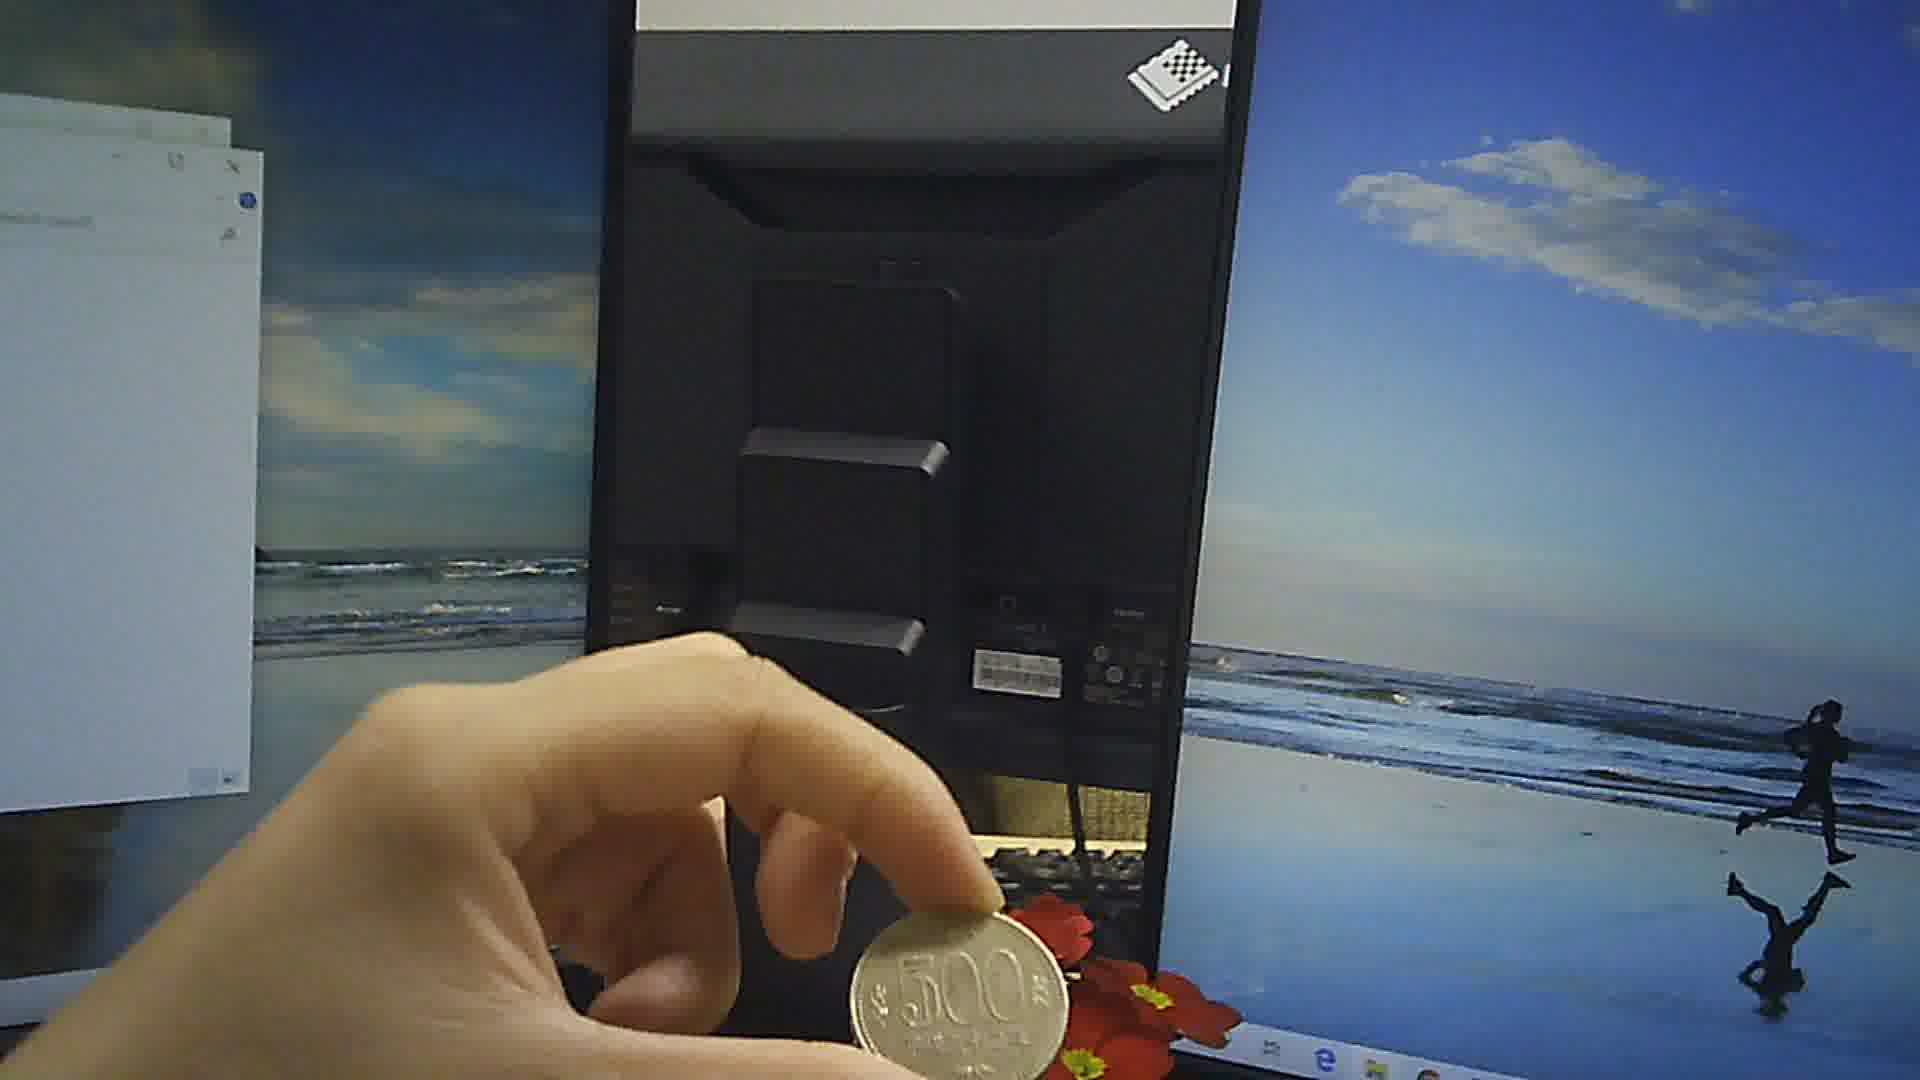500 Yen: (847, 901, 1071, 1079)
